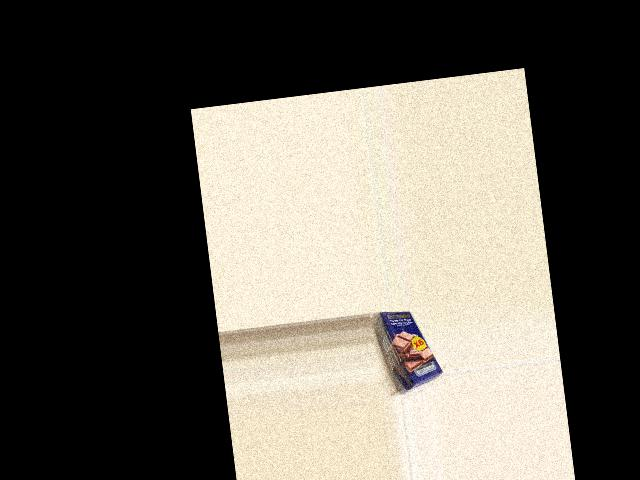chocolate: (374, 305, 445, 390)
